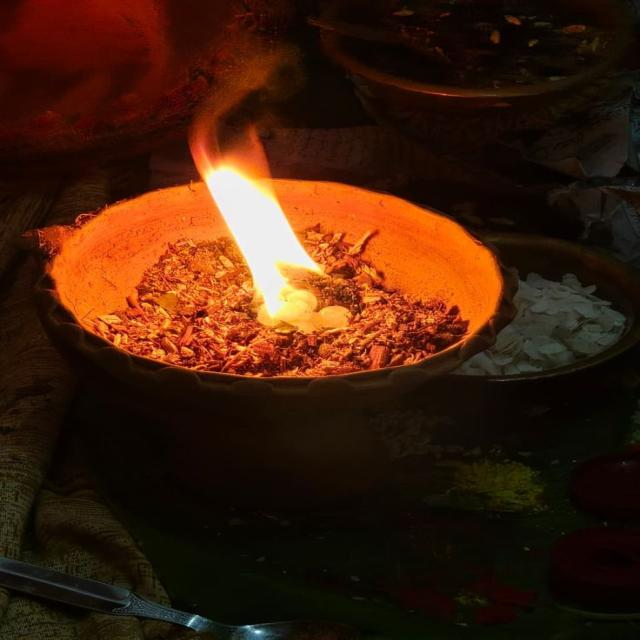fire: (197, 163, 331, 321)
